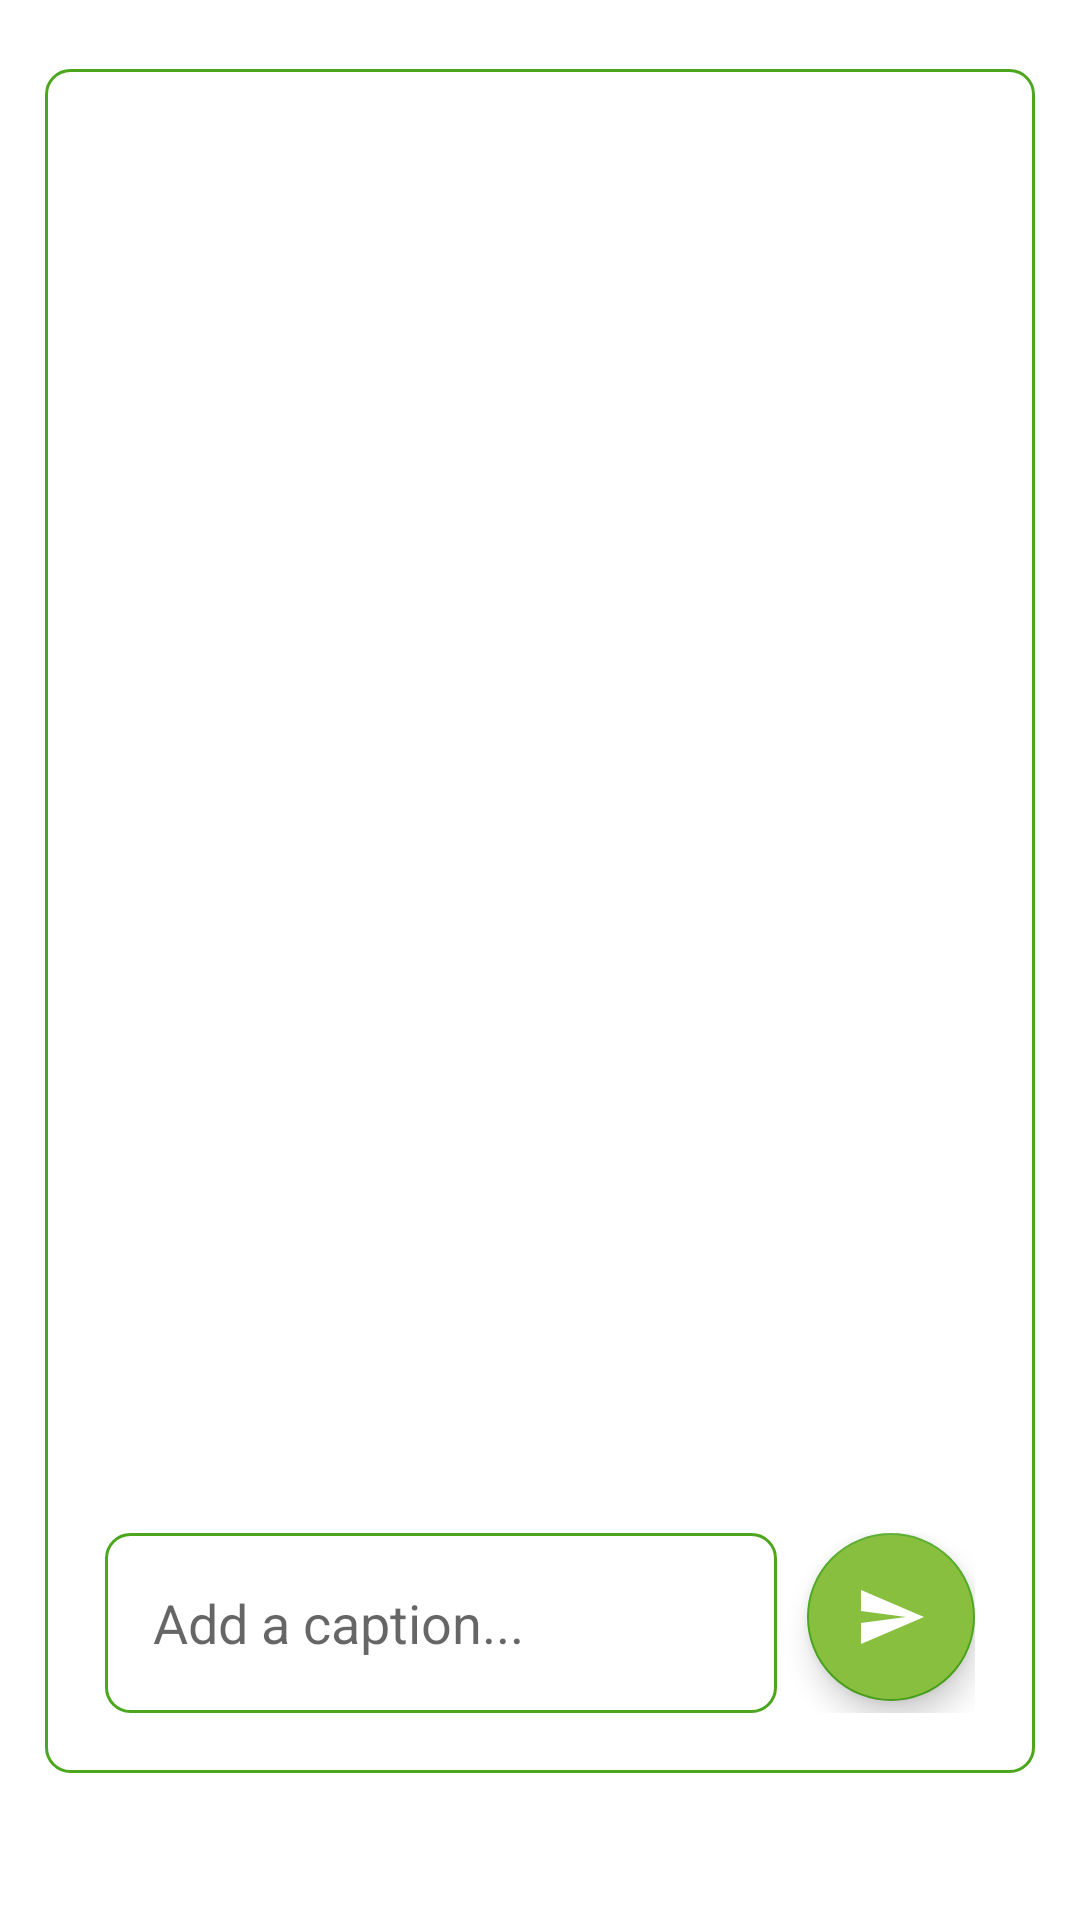

Screen size 1080*1920. Icon name, then its center in pixels as (x=x, y=y):
send: (x=891, y=1617)
